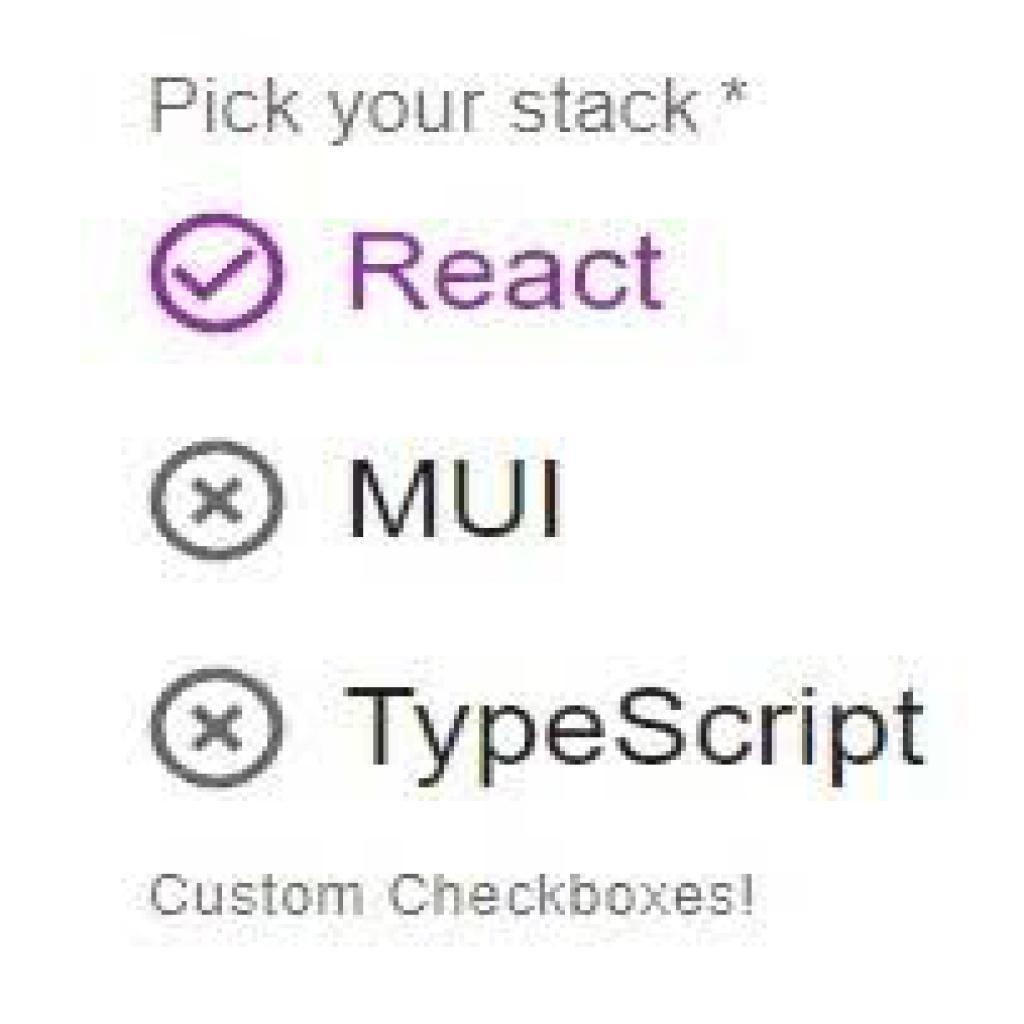checkbox: (147, 214, 282, 338), (153, 438, 283, 563), (153, 668, 283, 788)
label: (339, 664, 936, 792), (145, 64, 747, 146), (344, 215, 678, 324), (150, 868, 755, 926), (336, 455, 578, 545)
